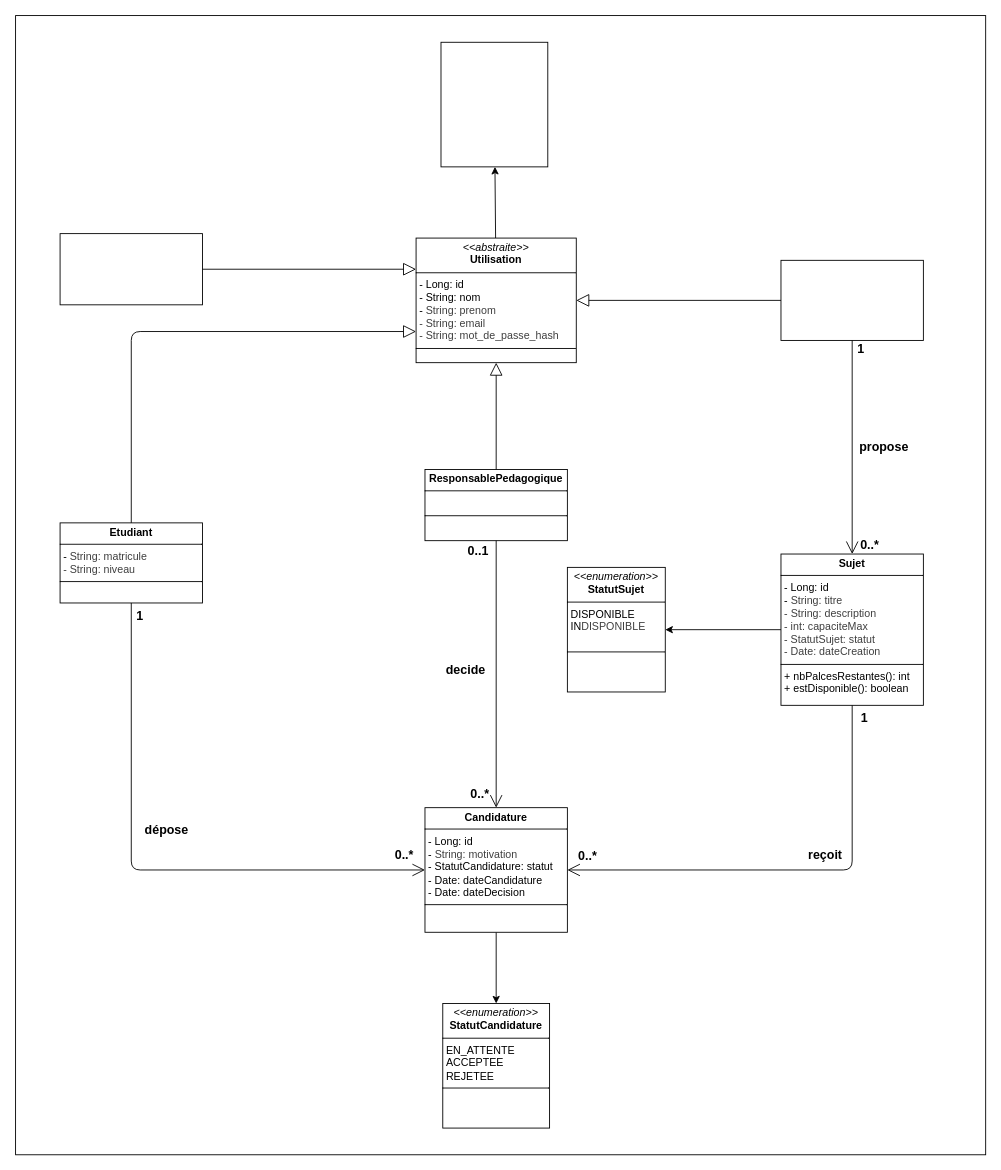
This 1001x1170 diagram has some shape labels left out. Each missing label, with the centre of its shape:
"<<enumeration>> Role ADMIN ENSEIGNANT ETUDIANT RESPONSABLE" goes at [494,104].
"Administrateur" goes at [130,269].
"Enseignant - String: departement" goes at [851,299].
